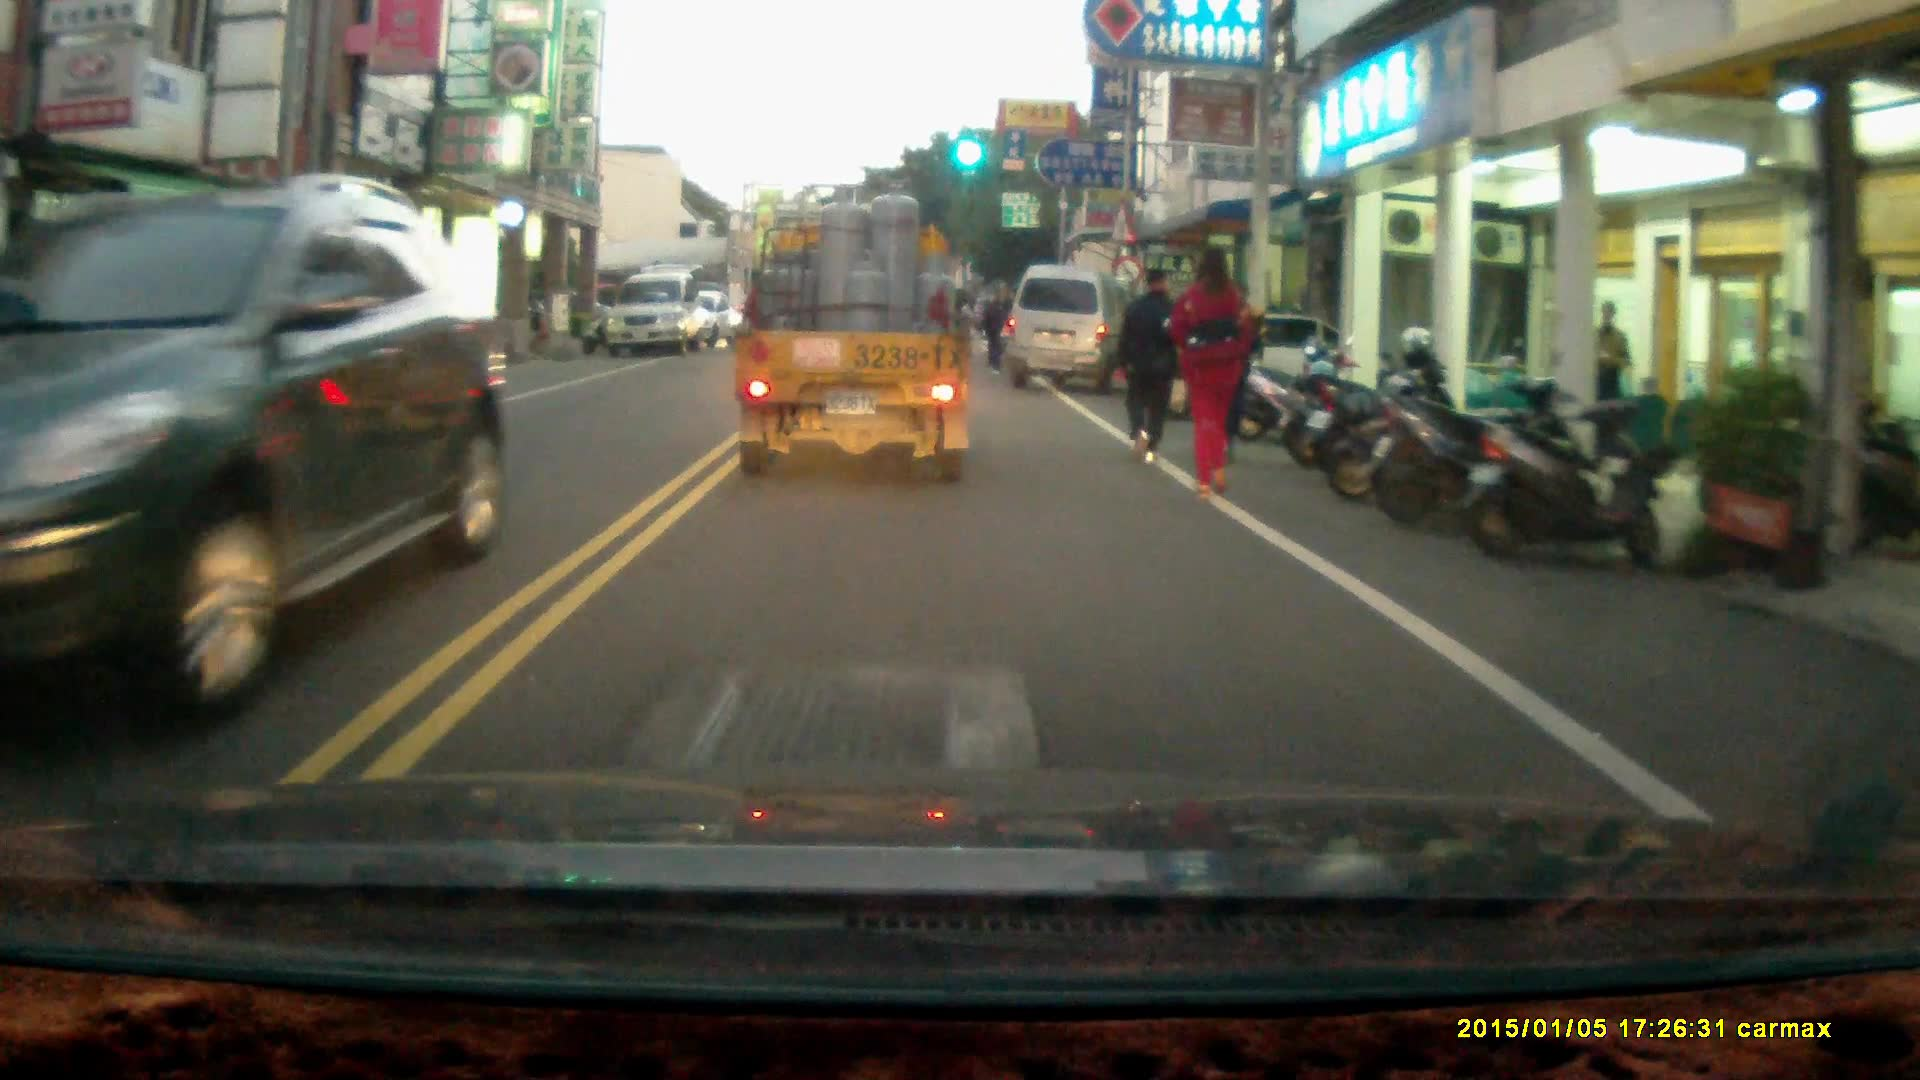pedestrian: (1172, 243, 1255, 507), (1114, 263, 1191, 465), (1590, 297, 1635, 448), (981, 287, 1014, 372)
vehicle: (1, 165, 530, 710), (730, 184, 983, 495), (192, 290, 462, 406), (1010, 265, 1142, 397), (605, 274, 714, 359)
